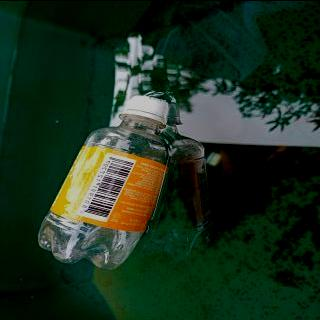bottle: (30, 89, 180, 273)
